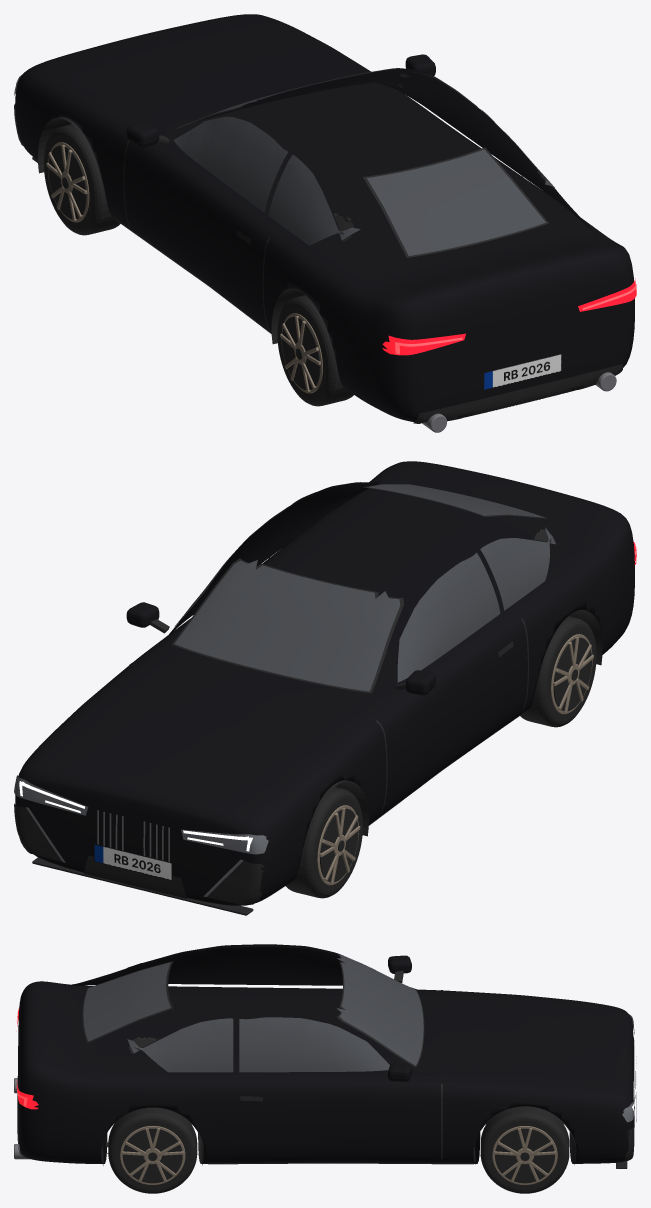
Rendered from coupe.glb.
The picture shows the model from 3 angles, top to bottom: view 1: azimuth 30°, elevation 25°; view 2: azimuth 150°, elevation 25°; view 3: azimuth 270°, elevation 25°; orthographic projection. The views are drawn at different scales.
Parts seen in each view (by area): view 1: Paint, Glass, Cabin_Paint, Trim, WheelFL_Tyre, WheelRL_Tyre, Windows_Trim, Liners_Trim, Tail, Plate, WheelFL_Trim, WheelRL_Trim (+3 smaller); view 2: Paint, Glass, Trim, Cabin_Paint, WheelFL_Tyre, WheelRL_Tyre, Windows_Trim, Liners_Trim, Lens, Chrome, Plate, WheelFL_Trim (+4 smaller); view 3: Paint, Glass, Cabin_Paint, WheelRR_Tyre, WheelFR_Tyre, WheelRR_Trim, WheelFR_Trim, Trim, WheelRR_Rim, WheelFR_Rim, Windows_Trim, Liners_Trim.
Part boxes in pixels (left/top/right/bottom): Paint: left=15, top=14, right=634, bottom=422; Glass: left=173, top=68, right=554, bottom=255; Cabin_Paint: left=194, top=68, right=599, bottom=291; Trim: left=14, top=103, right=622, bottom=423; WheelFL_Tyre: left=43, top=124, right=120, bottom=235; WheelRL_Tyre: left=277, top=295, right=353, bottom=406; Windows_Trim: left=173, top=68, right=555, bottom=257; Liners_Trim: left=38, top=117, right=343, bottom=389; Tail: left=382, top=278, right=635, bottom=355; Plate: left=483, top=353, right=561, bottom=390; WheelFL_Trim: left=48, top=145, right=86, bottom=219; WheelRL_Trim: left=282, top=316, right=320, bottom=390; Paint: left=15, top=461, right=634, bottom=905; Glass: left=174, top=482, right=555, bottom=691; Trim: left=14, top=557, right=528, bottom=915; Cabin_Paint: left=166, top=479, right=599, bottom=706; WheelFL_Tyre: left=286, top=787, right=362, bottom=898; WheelRL_Tyre: left=520, top=616, right=596, bottom=727; Windows_Trim: left=172, top=482, right=556, bottom=693; Liners_Trim: left=295, top=609, right=602, bottom=881; Lens: left=14, top=775, right=268, bottom=854; Chrome: left=26, top=792, right=243, bottom=896; Plate: left=94, top=843, right=172, bottom=880; WheelFL_Trim: left=320, top=808, right=358, bottom=882; Paint: left=18, top=955, right=633, bottom=1163; Glass: left=83, top=955, right=423, bottom=1072; Cabin_Paint: left=62, top=944, right=428, bottom=1074; WheelRR_Tyre: left=108, top=1107, right=197, bottom=1193; WheelFR_Tyre: left=480, top=1107, right=569, bottom=1193; WheelRR_Trim: left=122, top=1128, right=182, bottom=1183; WheelFR_Trim: left=495, top=1128, right=554, bottom=1183; Trim: left=17, top=970, right=635, bottom=1168; WheelRR_Rim: left=120, top=1126, right=185, bottom=1184; WheelFR_Rim: left=492, top=1126, right=557, bottom=1184; Windows_Trim: left=82, top=945, right=424, bottom=1067; Liners_Trim: left=101, top=1106, right=576, bottom=1165.
Bounding box in the file's own units: 7.29 × 4.95 × 16.39.
Materials: 13 (1 with a texture image).
